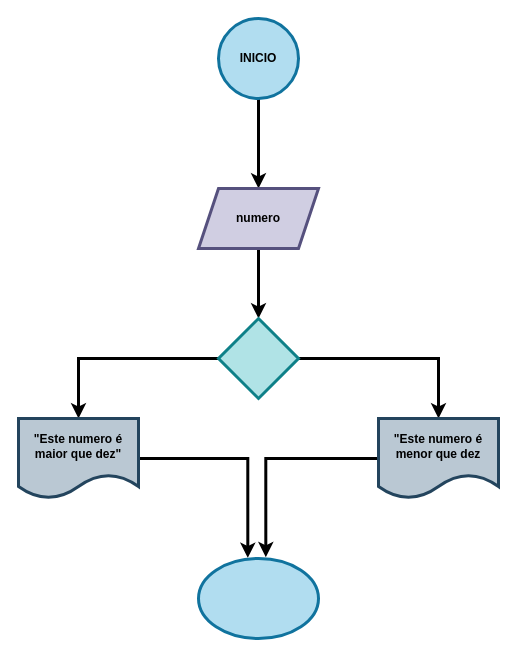
Some shapes in this 517 by 657 pixel diagram are drawn without their labels. The shapes that lost their labels are listed below. From the top down, each one's centre as x and y in pixels, then its label:
the point at 258,358: numero<10
the point at 258,598: FIM
